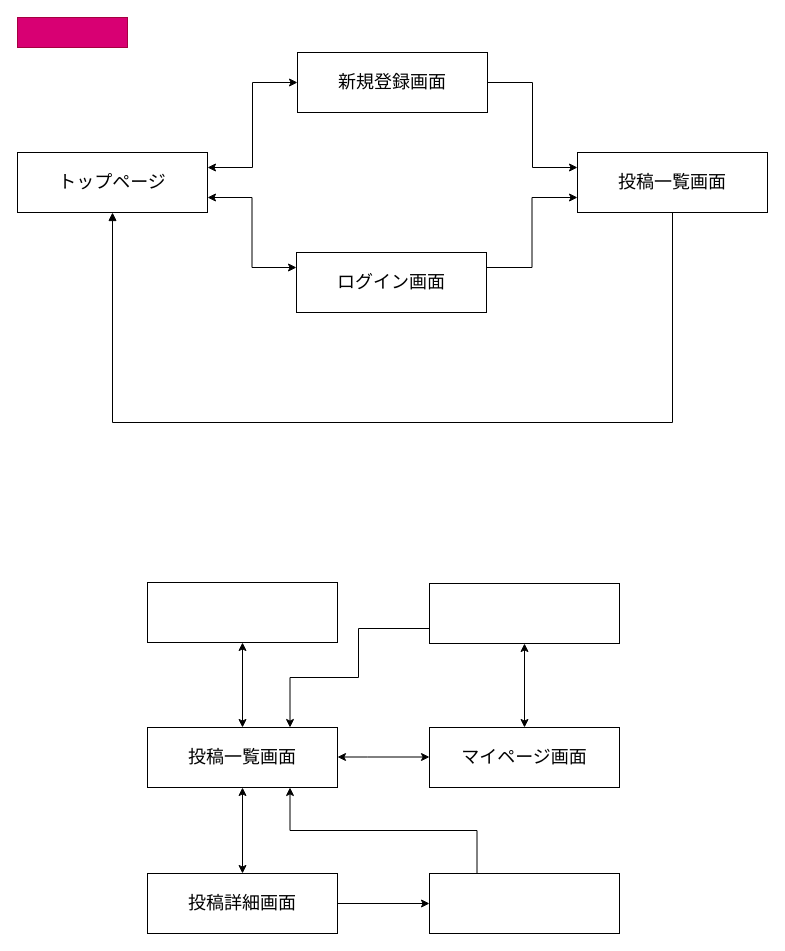
Some shapes in this 785 by 951 pixel diagram are drawn without their labels. Each missing label, with the centre of its shape:
マイページ編集画面: the point at 524,613
投稿編集画面: the point at 524,903
新規投稿画面: the point at 242,612
画面遷移図: the point at 72,32
